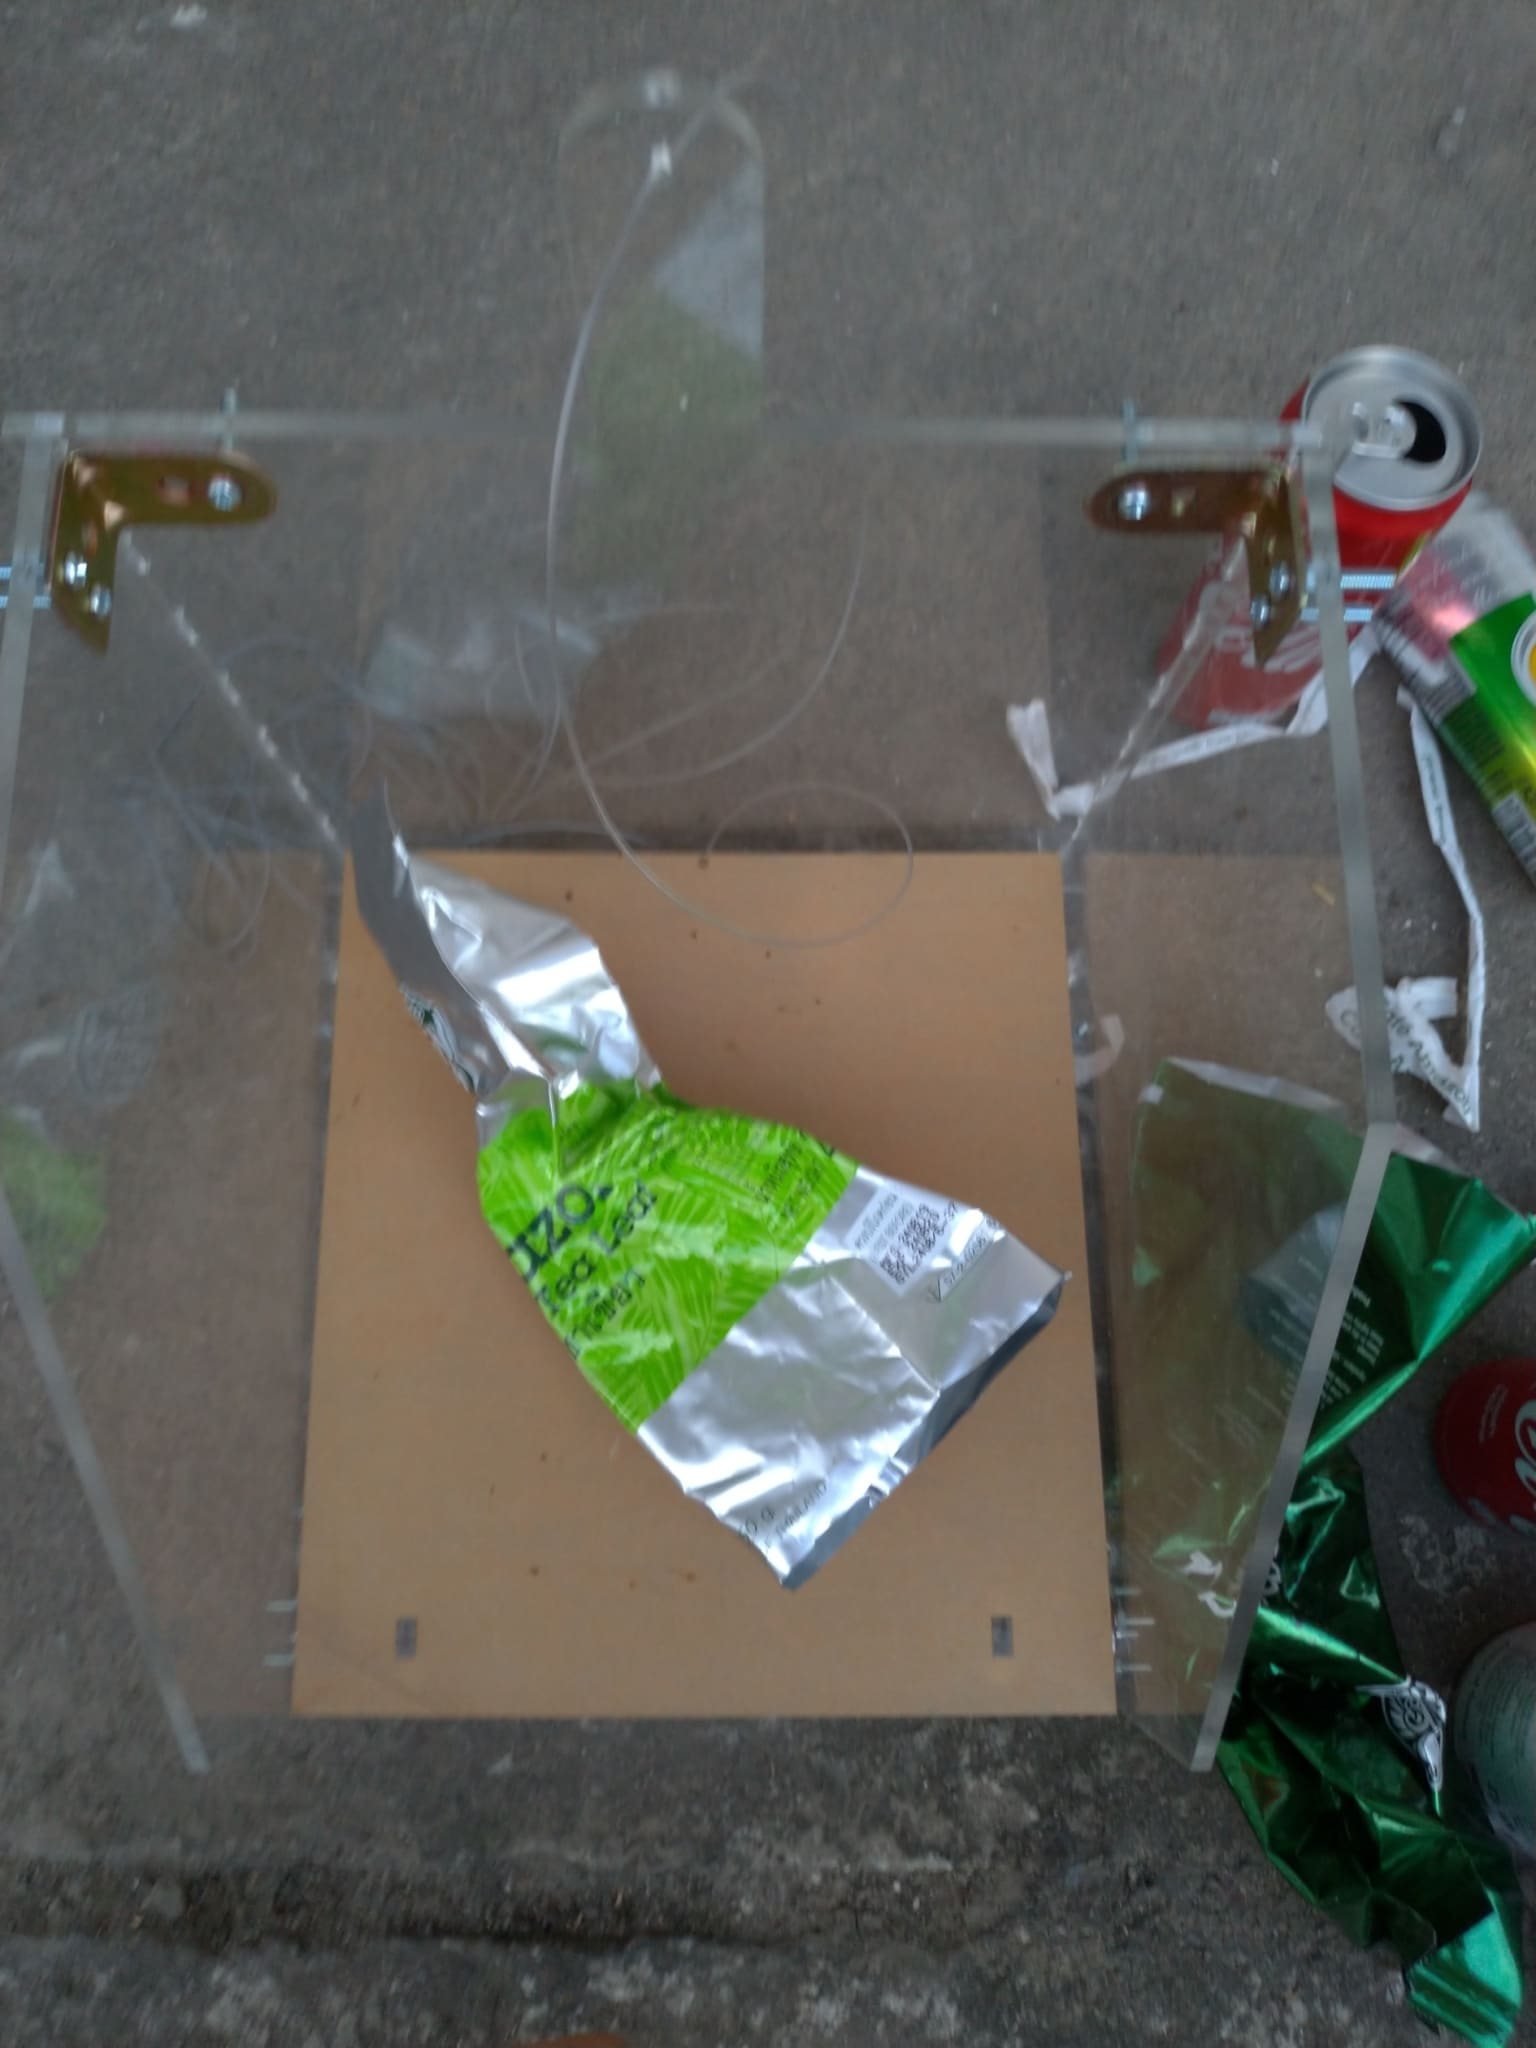AlCan: (1157, 348, 1471, 739), (1388, 495, 1536, 842)
Others: (336, 785, 1066, 1567), (1133, 1064, 1517, 2030), (1338, 695, 1488, 1122), (1021, 631, 1368, 805)
